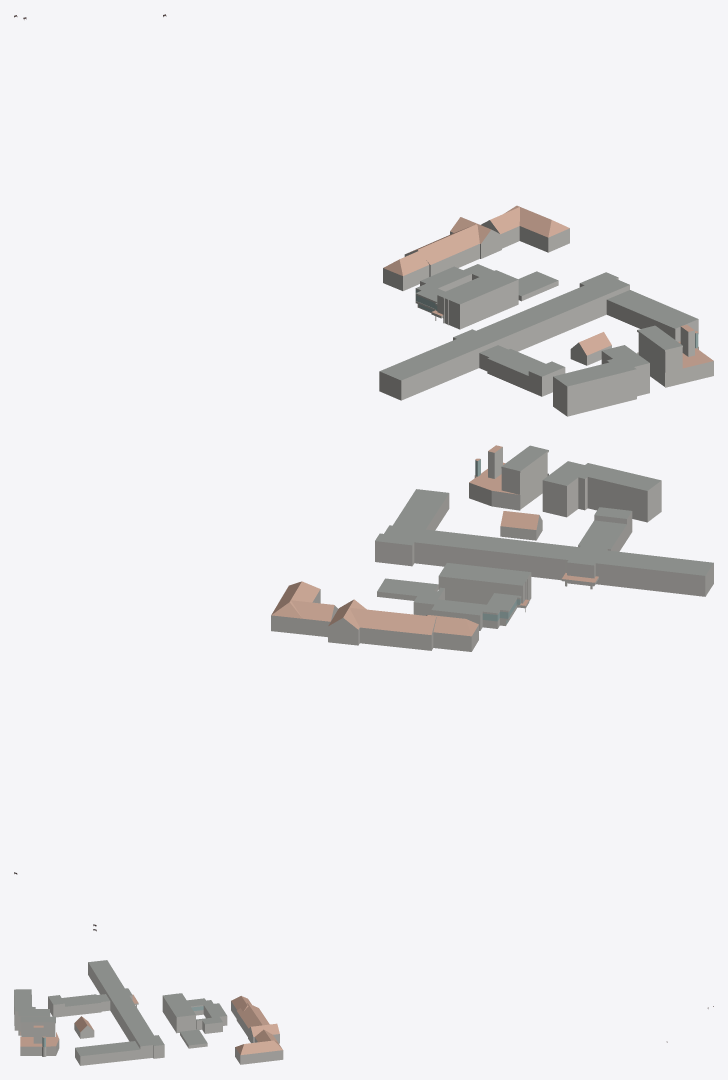
File: gridID_48.dae
The picture shows the model from 3 angles, top to bottom: view 1: azimuth 30°, elevation 25°; view 2: azimuth 150°, elevation 25°; view 3: azimuth 270°, elevation 25°; orthographic projection. The views are drawn at different scales.
Parts seen in each view (by area): view 1: model_gridID_48_w114518352, model_gridID_48_w116941145_010, model_gridID_48_w116941142_002, model_gridID_48_w114518352_002, model_gridID_48_w114518352_003, model_gridID_48_w114518352_001, model_gridID_48_w116941142; view 2: model_gridID_48_w114518352, model_gridID_48_w116941145_010, model_gridID_48_w116941142_002, model_gridID_48_w114518352_002, model_gridID_48_w114518352_003, model_gridID_48_w114518352_001, model_gridID_48_w116941142; view 3: model_gridID_48_w114518352, model_gridID_48_w116941145_010, model_gridID_48_w116941142_002, model_gridID_48_w114518352_003, model_gridID_48_w114518352_002, model_gridID_48_w116941142, model_gridID_48_w114518352_001.
Part boxes in pixels (x1,y1,x2,y2): model_gridID_48_w114518352: [379, 272, 698, 400]; model_gridID_48_w116941145_010: [383, 205, 569, 290]; model_gridID_48_w116941142_002: [415, 264, 518, 329]; model_gridID_48_w114518352_002: [553, 345, 649, 416]; model_gridID_48_w114518352_003: [637, 324, 713, 387]; model_gridID_48_w114518352_001: [570, 332, 611, 365]; model_gridID_48_w116941142: [518, 271, 558, 301]; model_gridID_48_w114518352: [375, 489, 713, 596]; model_gridID_48_w116941145_010: [271, 581, 478, 651]; model_gridID_48_w116941142_002: [413, 563, 531, 630]; model_gridID_48_w114518352_002: [542, 461, 661, 522]; model_gridID_48_w114518352_003: [469, 445, 548, 510]; model_gridID_48_w114518352_001: [500, 511, 542, 540]; model_gridID_48_w116941142: [377, 578, 438, 600]; model_gridID_48_w114518352: [48, 960, 164, 1065]; model_gridID_48_w116941145_010: [231, 996, 283, 1064]; model_gridID_48_w116941142_002: [162, 993, 227, 1033]; model_gridID_48_w114518352_003: [20, 1016, 59, 1056]; model_gridID_48_w114518352_002: [14, 989, 50, 1035]; model_gridID_48_w116941142: [180, 1029, 207, 1048]; model_gridID_48_w114518352_001: [74, 1016, 94, 1038].
Bounding box in the file's own units: 155 × 494 × 20.
